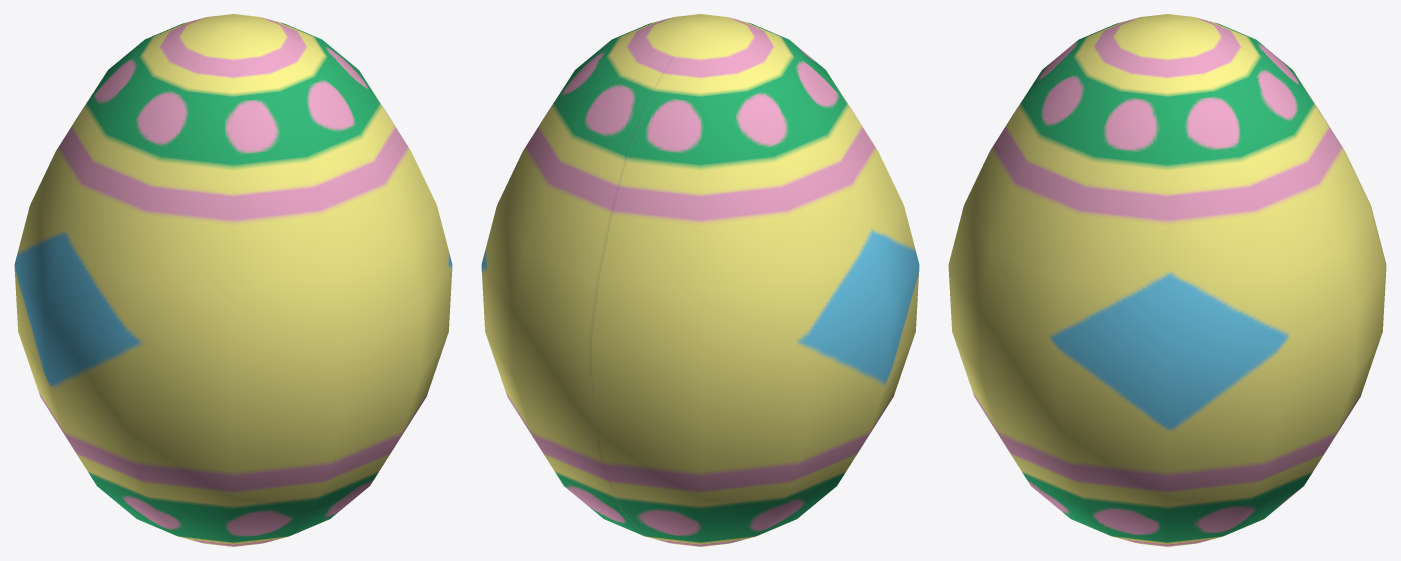
The model's file is MM_EasterEgg.fbx.
3 views of the same model, side by side, from view 1: azimuth 30°, elevation 25°; view 2: azimuth 150°, elevation 25°; view 3: azimuth 270°, elevation 25° (orthographic).
Parts seen in each view (by area): view 1: MM_EasterEgg; view 2: MM_EasterEgg; view 3: MM_EasterEgg.
Boxes of the visible parts, <box> form: MM_EasterEgg: <box>14,14,452,546</box>; MM_EasterEgg: <box>481,14,919,546</box>; MM_EasterEgg: <box>948,14,1386,546</box>.
Size of the model in its own units: 98.52 by 125 by 98.52.
